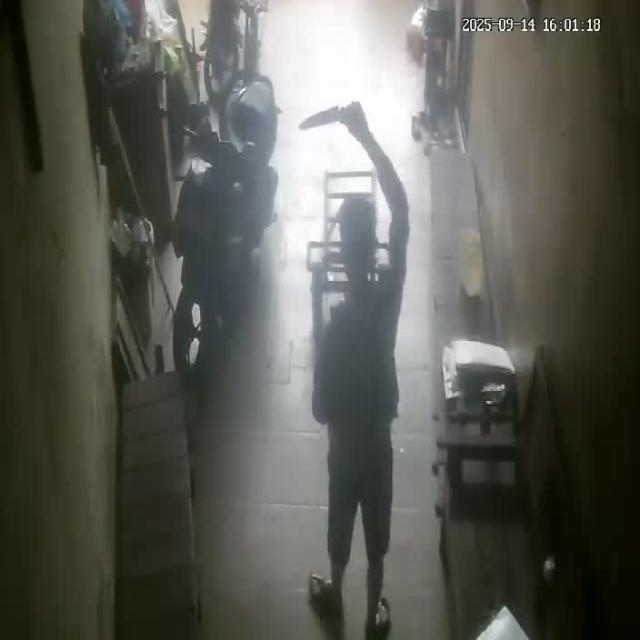senjata_tajam: (295, 103, 344, 130)
